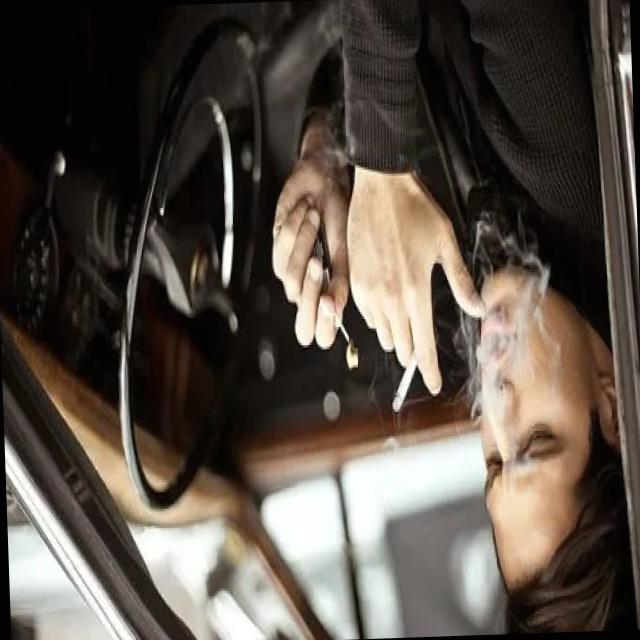smoke: (388, 341, 424, 414)
